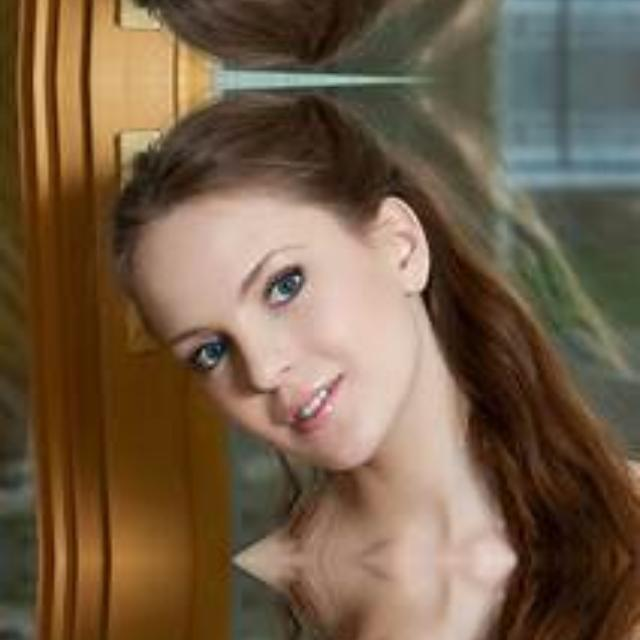person: (78, 102, 558, 560), (77, 558, 558, 640), (77, 0, 558, 55)
